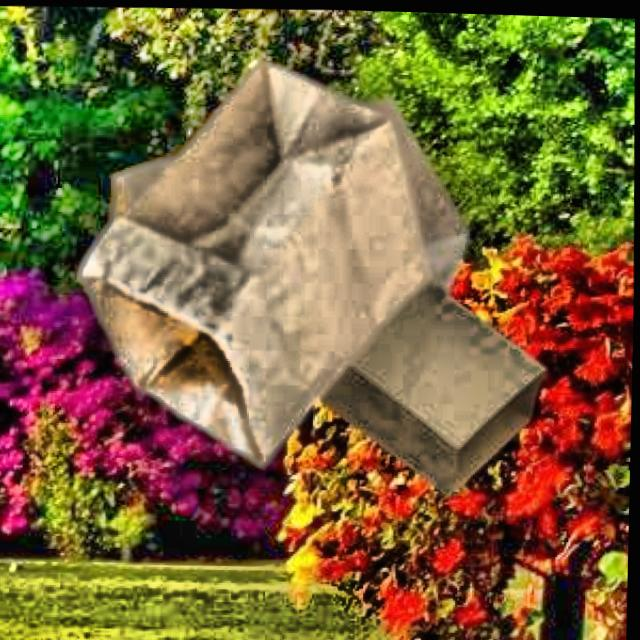Paper-bag: (65, 47, 447, 487), (283, 234, 563, 502)
